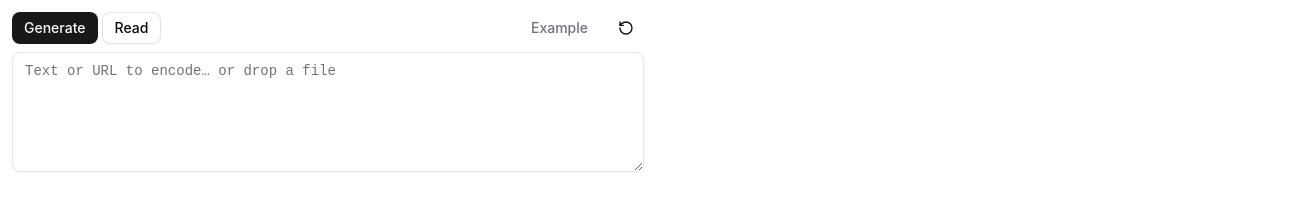
Test: Read tab button is visible and switches view
The image size is (1292, 205).
Click the button "read" at (131, 28), box [102,12,161,44]
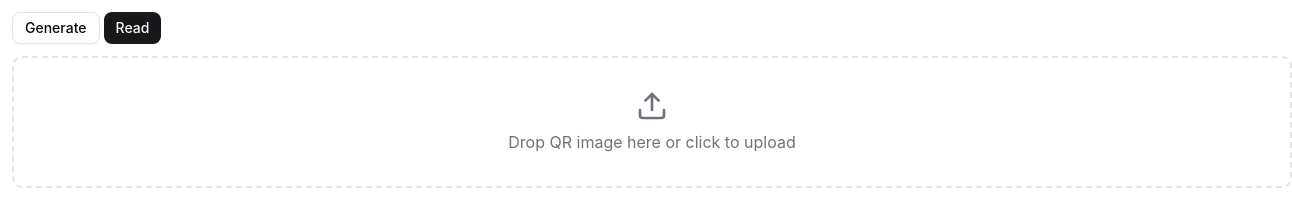
Now the text "Drop QR image here or click to upload" is shown, box [508,130,796,154]
